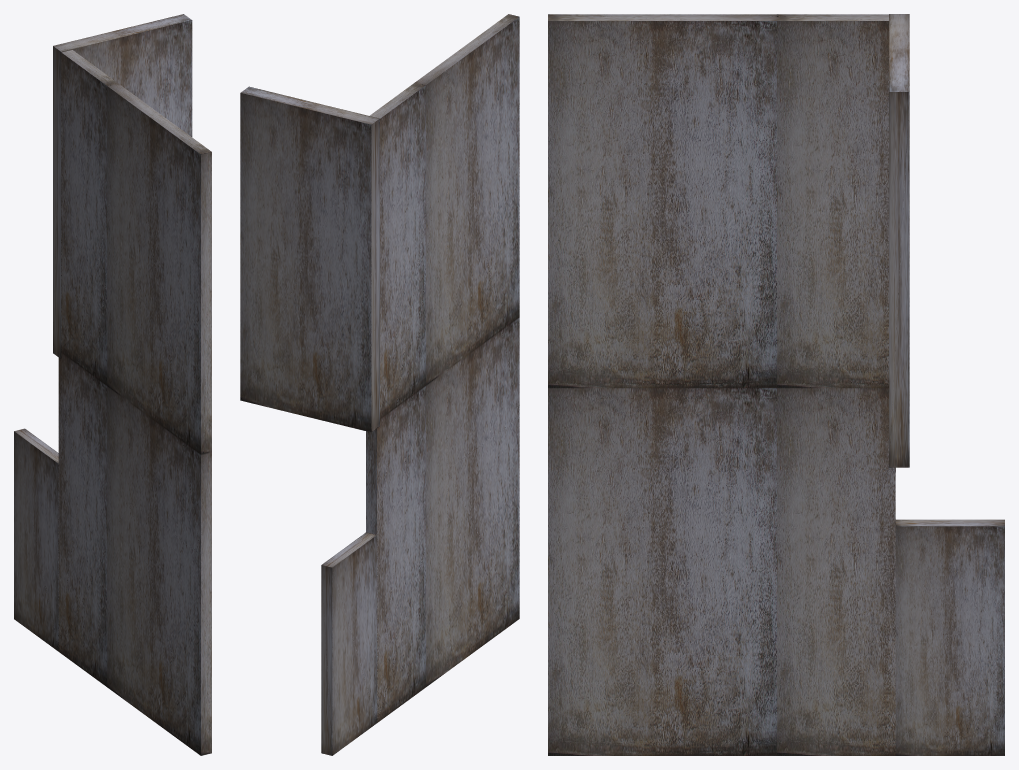
File: StairWall.FBX
3 renders of one model, left to right at view 1: azimuth 30°, elevation 25°; view 2: azimuth 150°, elevation 25°; view 3: azimuth 270°, elevation 25°, orthographic. The views are drawn at different scales.
Parts seen in each view (by area): view 1: Box096, Object018, Object017; view 2: Box096, Object018, Object017; view 3: Box096, Object017, Object018.
Part boxes in pixels (x1,y1,x2,y2): Box096: (58, 50, 211, 755); Object018: (53, 14, 192, 358); Object017: (14, 428, 58, 651); Box096: (366, 14, 519, 722); Object018: (240, 86, 379, 432); Object017: (321, 532, 377, 755); Box096: (548, 14, 895, 755); Object017: (895, 519, 1004, 755); Object018: (889, 14, 909, 467).
Size of the model in its own units: 205 by 903 by 508.
1 material, 1 textured.
